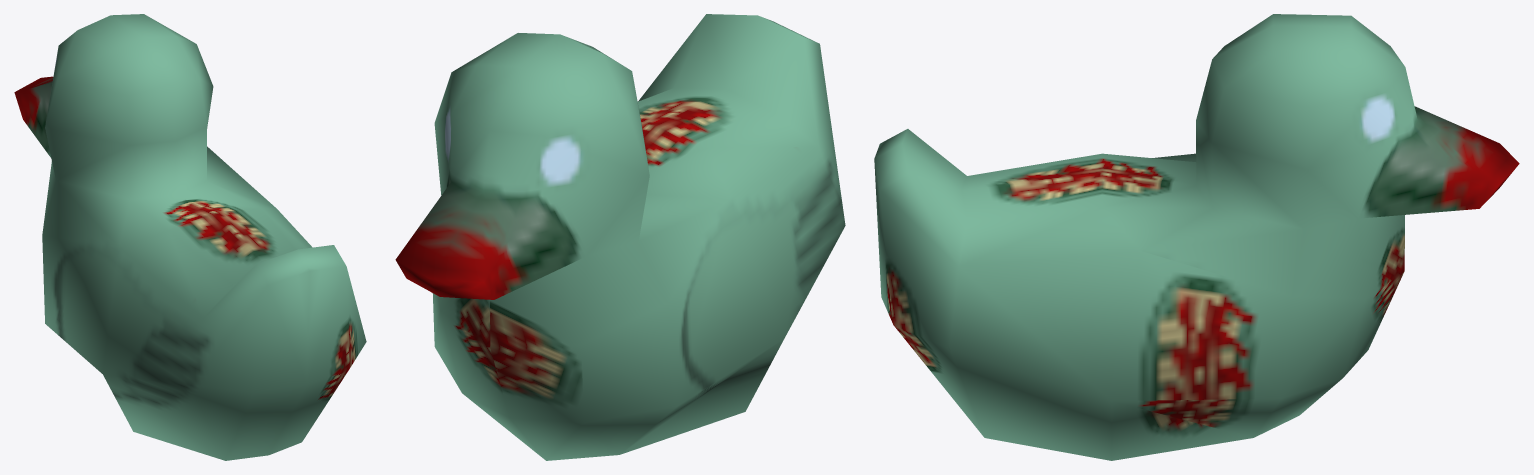
File: ZedRubberducky.fbx
The picture shows the model from 3 angles, left to right: view 1: azimuth 30°, elevation 25°; view 2: azimuth 150°, elevation 25°; view 3: azimuth 270°, elevation 25°; orthographic projection. The views are drawn at different scales.
Parts seen in each view (by area): view 1: Object; view 2: Object; view 3: Object.
Boxes of the visible parts, x1,y1,x2,y2 form: Object: (14, 14, 366, 460); Object: (395, 14, 845, 460); Object: (874, 14, 1519, 460).
Bounding box in the file's own units: 0.0718 × 0.1034 × 0.155.
